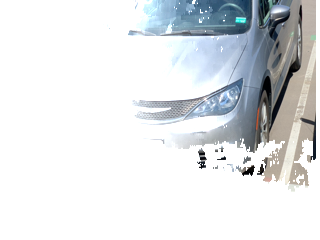Obstacle: (70, 1, 304, 173)
